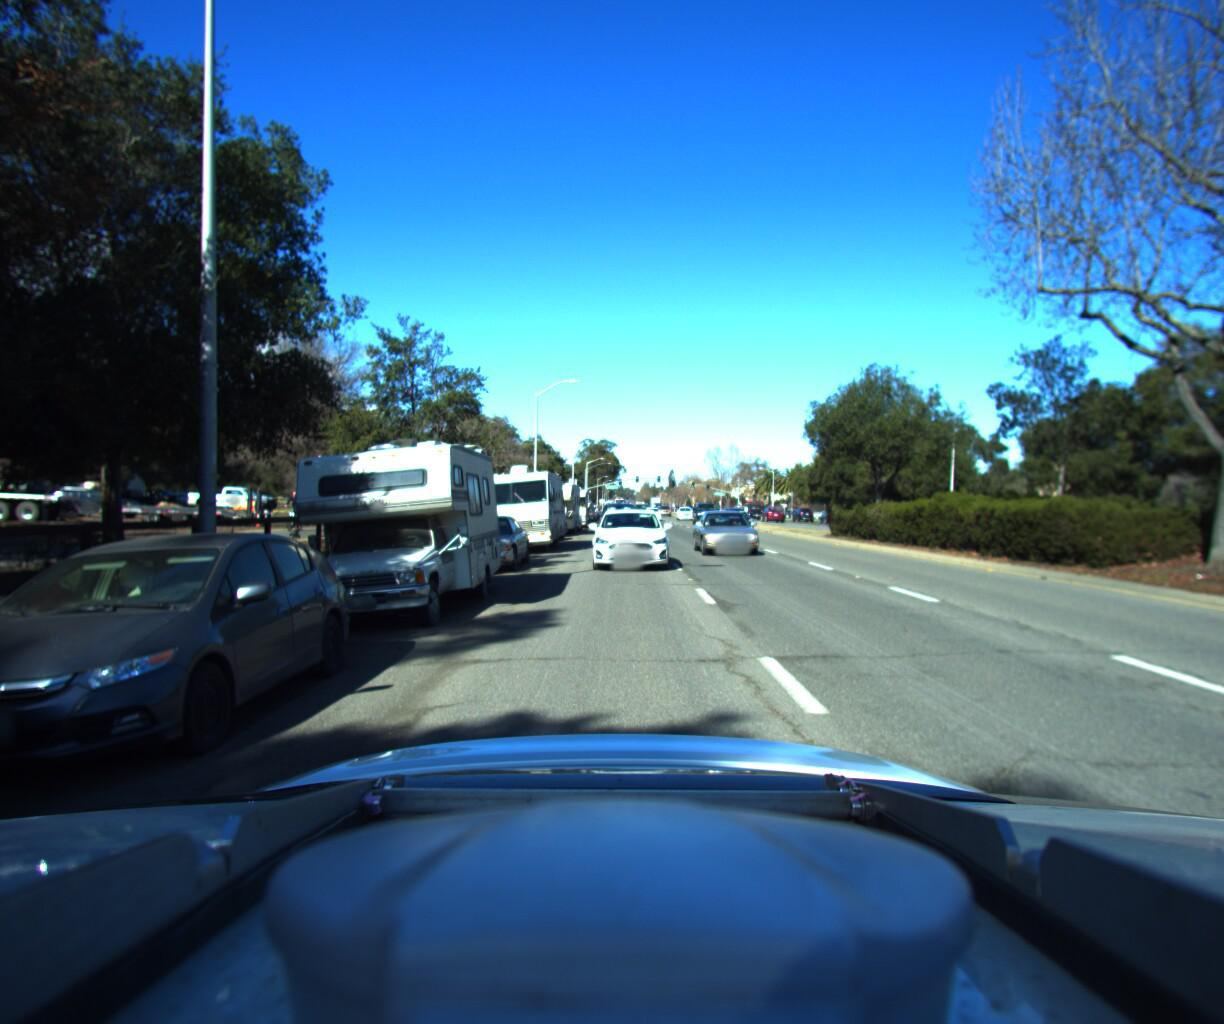car: (0, 518, 377, 822), (430, 505, 531, 576), (587, 500, 668, 569), (690, 502, 772, 558), (759, 497, 784, 515), (642, 495, 661, 513), (675, 497, 695, 513)
other_vehicle: (233, 406, 506, 644), (463, 451, 567, 551), (514, 467, 583, 533), (548, 478, 589, 521)
